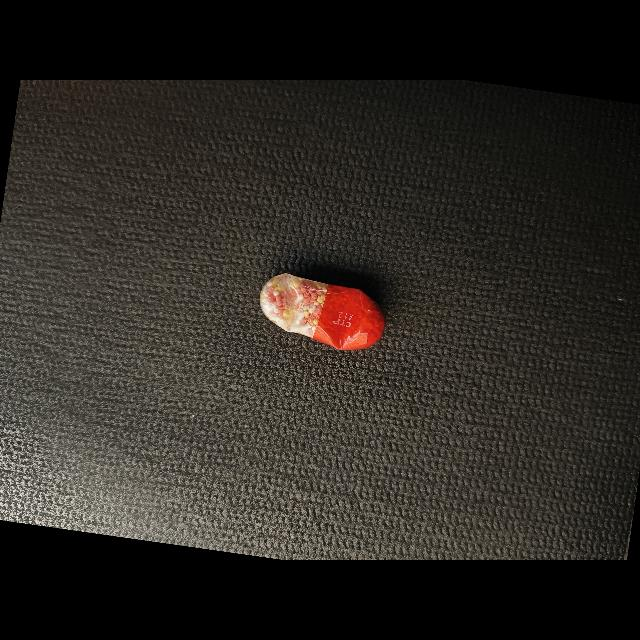Defective Capsule: (259, 273, 386, 350)
